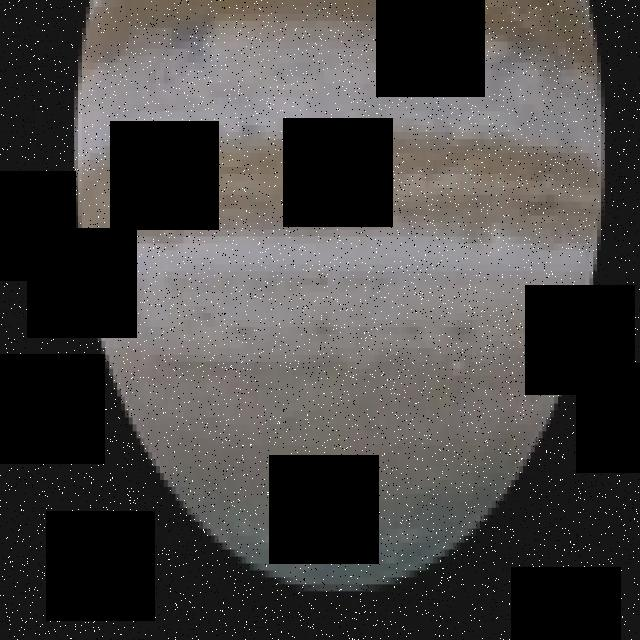Jupiter: (70, 0, 604, 591)
